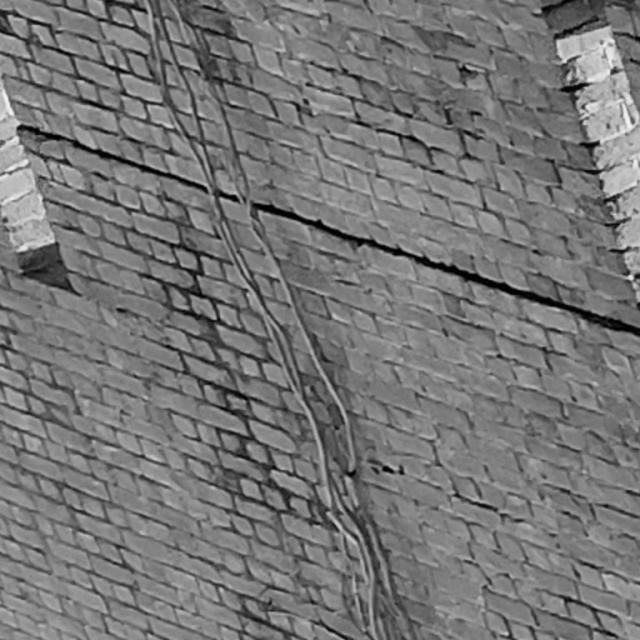crack: (17, 124, 640, 336)
